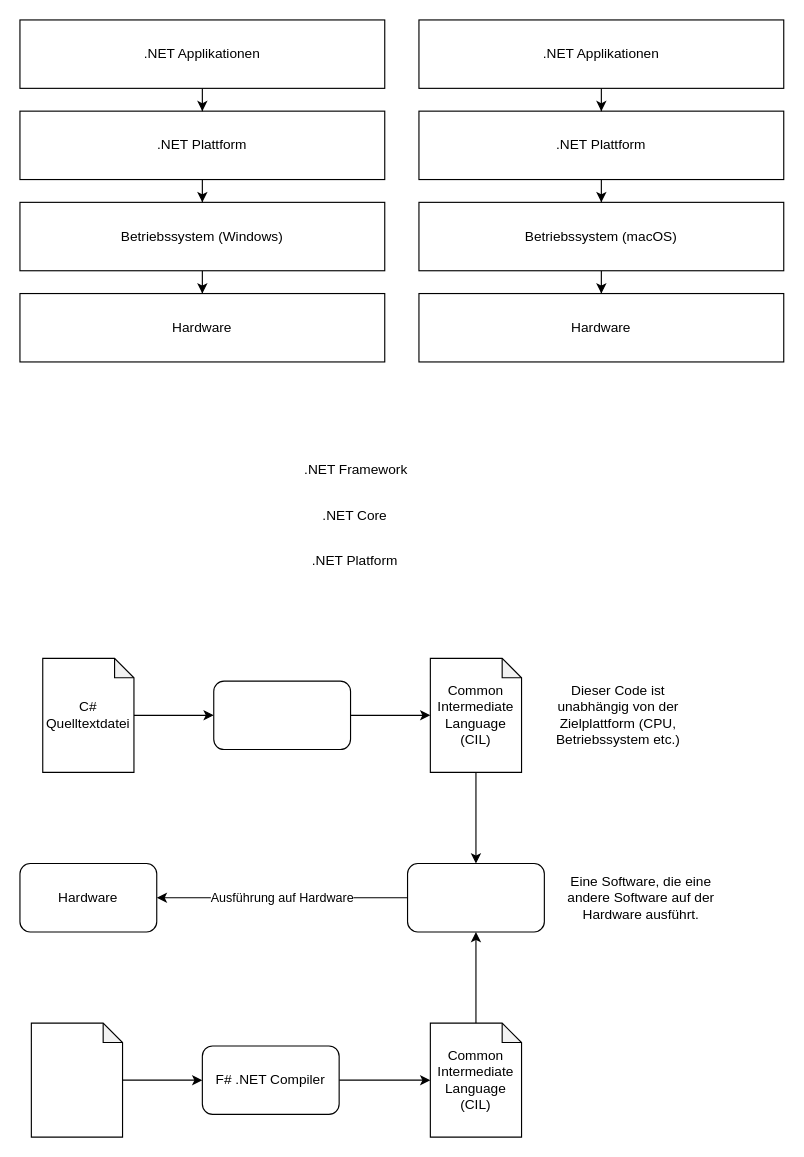
Some shapes in this 804 by 1157 pixel diagram are drawn without their labels. The shapes that lost their labels are listed below. From the top down, each one's centre as x and y in pixels, then its label:
At point (282, 715): "C# .NET Compiler".
At point (475, 897): ".NET Runtime".
At point (76, 1079): "F# Quelltextdatei".
